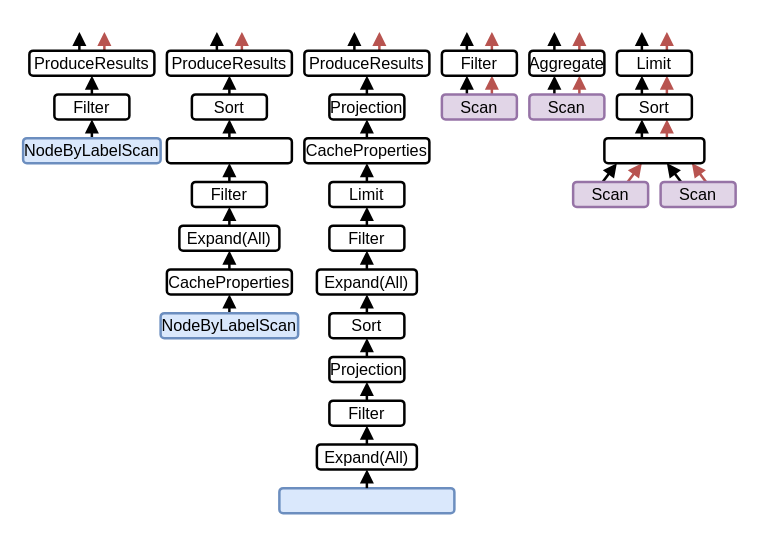
The diagram is 758 pixels wide and 535 high, and some of its shapes have lost their labels. Each missing label, with the box of its shape:
EagerAggregation: (165, 136, 292, 164)
Nested Loop: (602, 136, 705, 164)
NodeUniqueIndexSeek: (278, 486, 455, 514)
